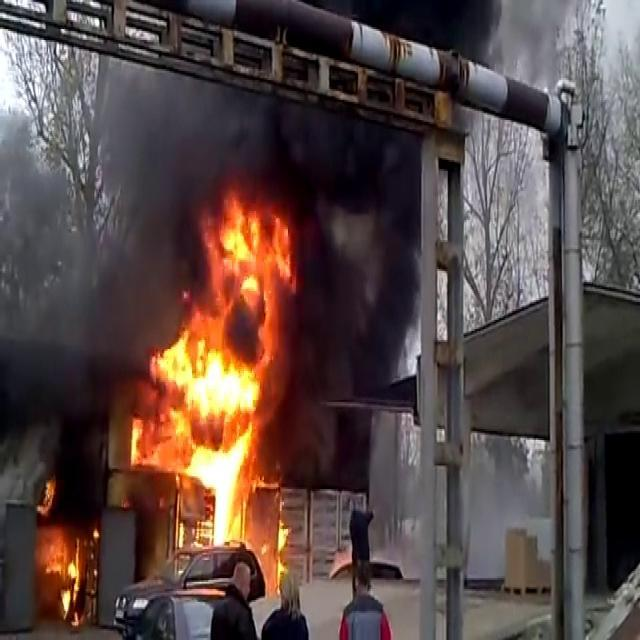Fire: (140, 180, 300, 544), (36, 482, 94, 625)
Smoke: (11, 0, 566, 293)
